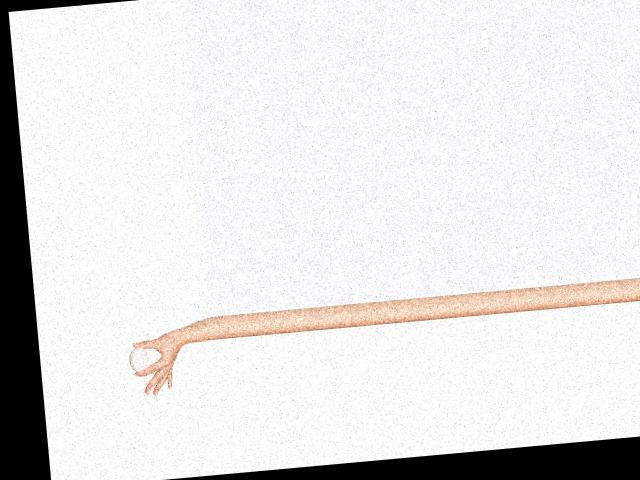egg: (127, 346, 149, 372)
